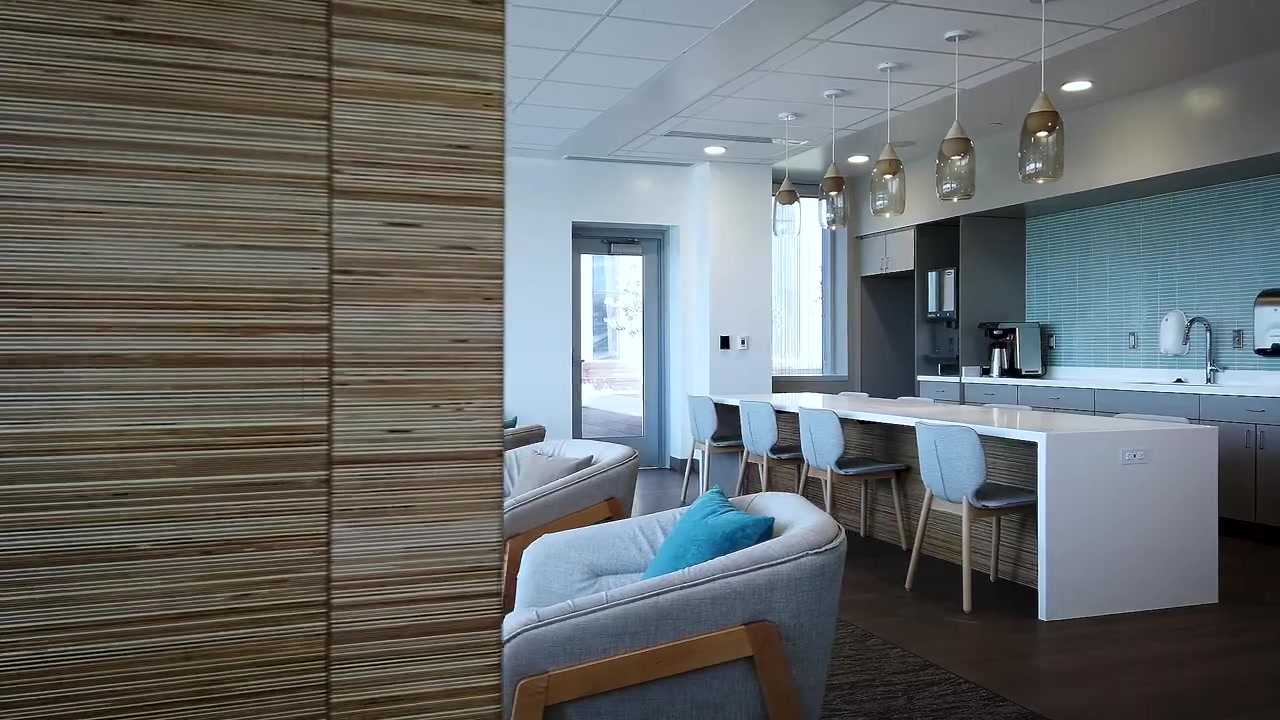cabinet: (857, 224, 916, 278)
chair: (901, 420, 1041, 616), (793, 406, 912, 552), (678, 395, 747, 505), (731, 401, 803, 501)
counter: (716, 388, 1212, 608), (912, 377, 1277, 532)
countertop: (696, 391, 1228, 432), (915, 372, 1280, 399)
dispenser: (1253, 288, 1280, 360), (1158, 307, 1189, 357)
faucet: (1180, 316, 1215, 386)
handle: (1243, 426, 1252, 450), (1256, 429, 1265, 450), (1213, 360, 1225, 374), (1244, 406, 1266, 413), (884, 255, 891, 271), (1045, 395, 1061, 402), (878, 254, 883, 272), (934, 388, 946, 394), (982, 392, 996, 397)
sofa: (499, 489, 849, 720), (500, 437, 639, 622), (498, 423, 545, 454)
